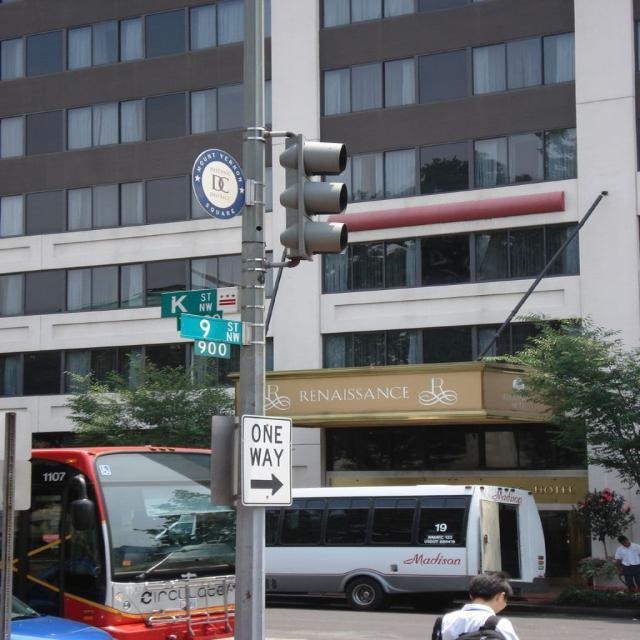traffic light: (294, 133, 352, 258)
